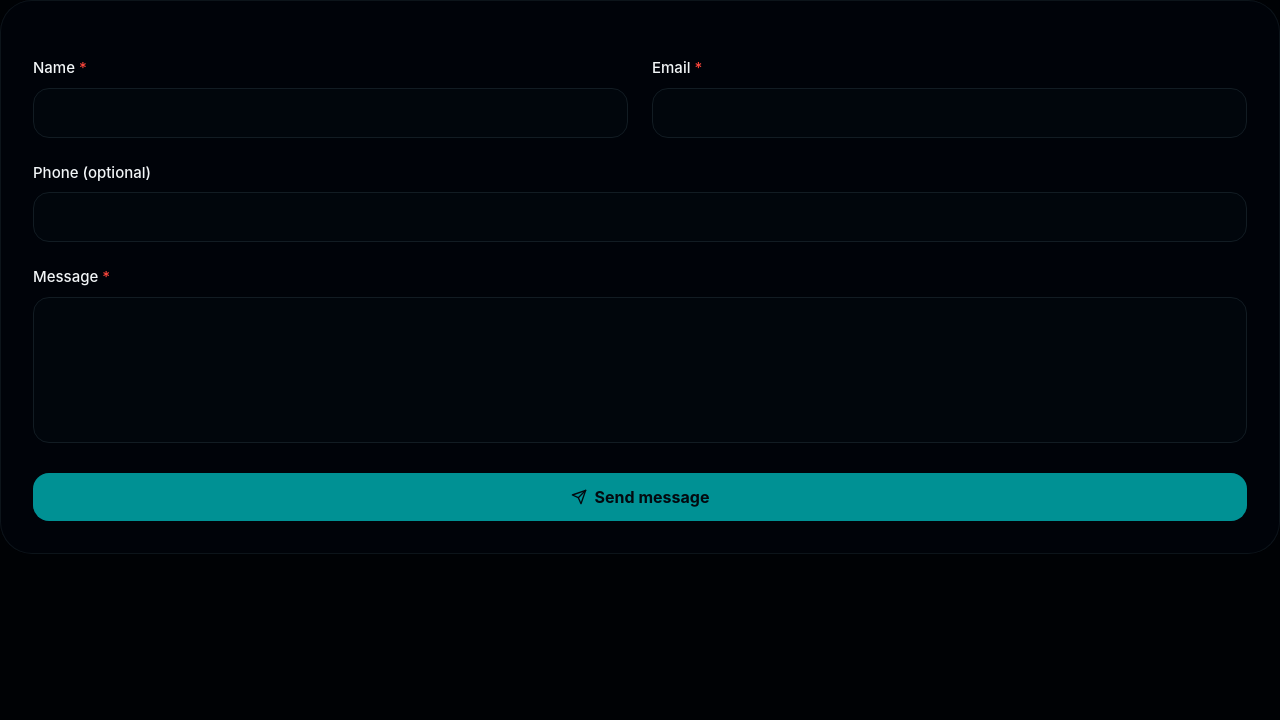
Test case: ContactForm — clears controlled fields on a successful send › fill → submit → success status shown AND every field reset to empty
Step 1. Type "Jane Doe" into the field labelled "Name *" → (330, 112), box [33,88,628,138]
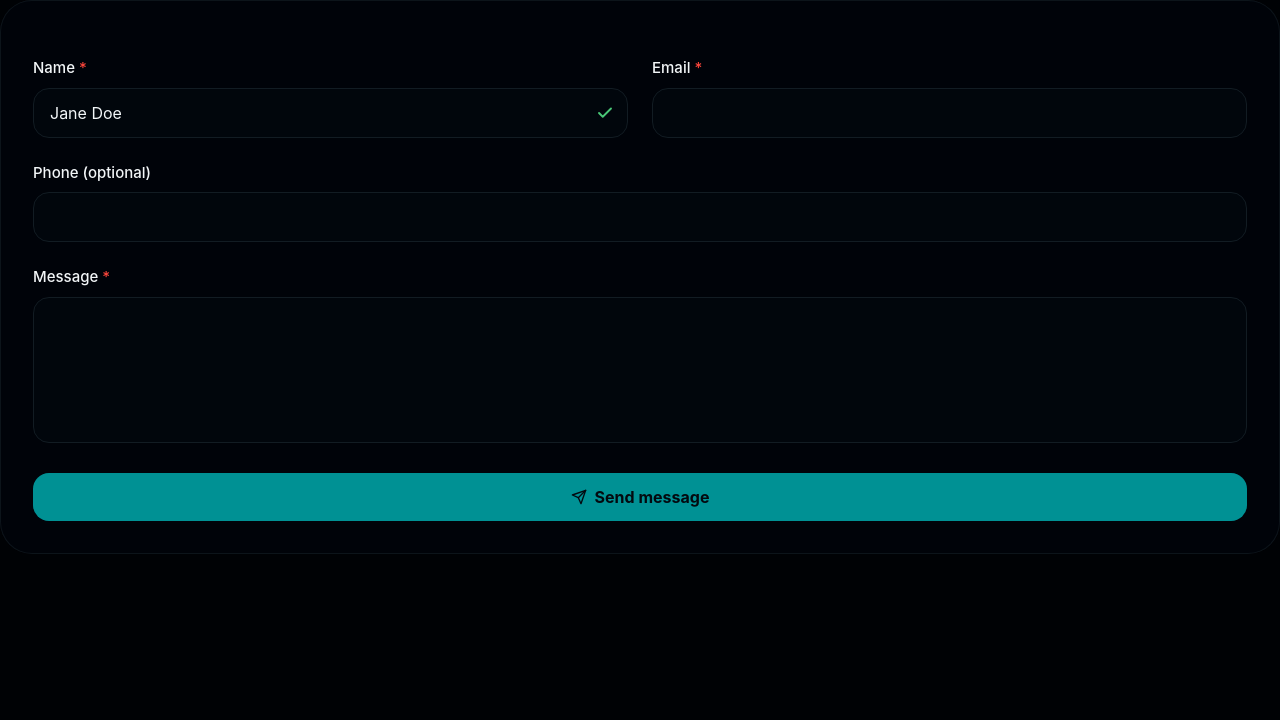
Step 2. Type "jane@example.com" into the field labelled "Email *" → (950, 112), box [652,88,1247,138]
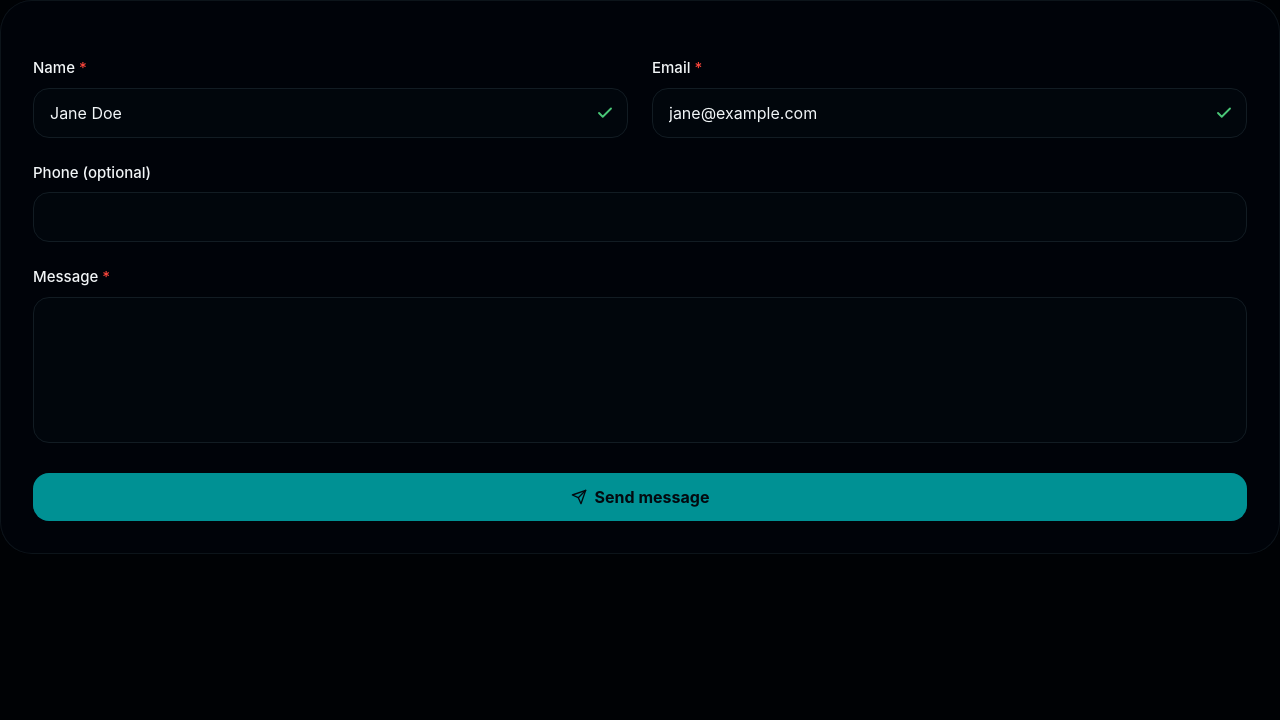
Step 3. Type "Hello — I have a real question about a booking." into the text box labelled "Message *" → (640, 370), box [33,296,1247,442]
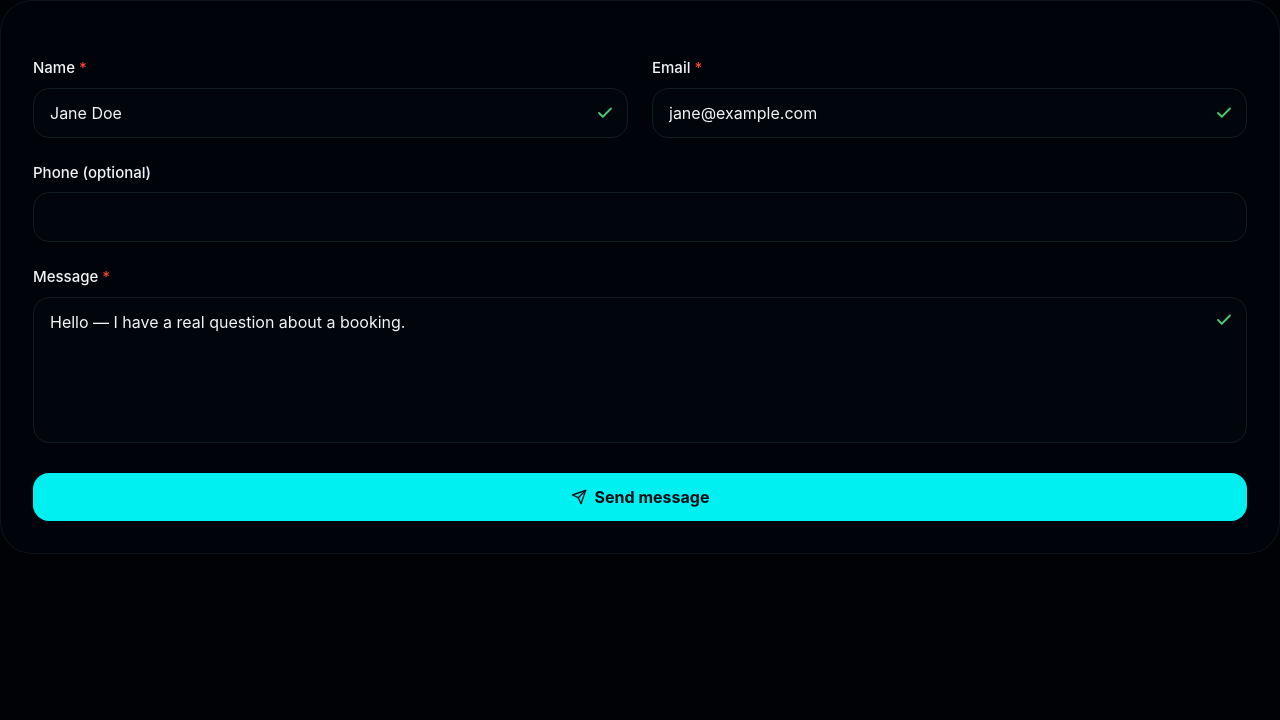
Expected: the button "Send message" is enabled
Step 4. Click the button "Send message" → (640, 496), box [33,472,1247,520]
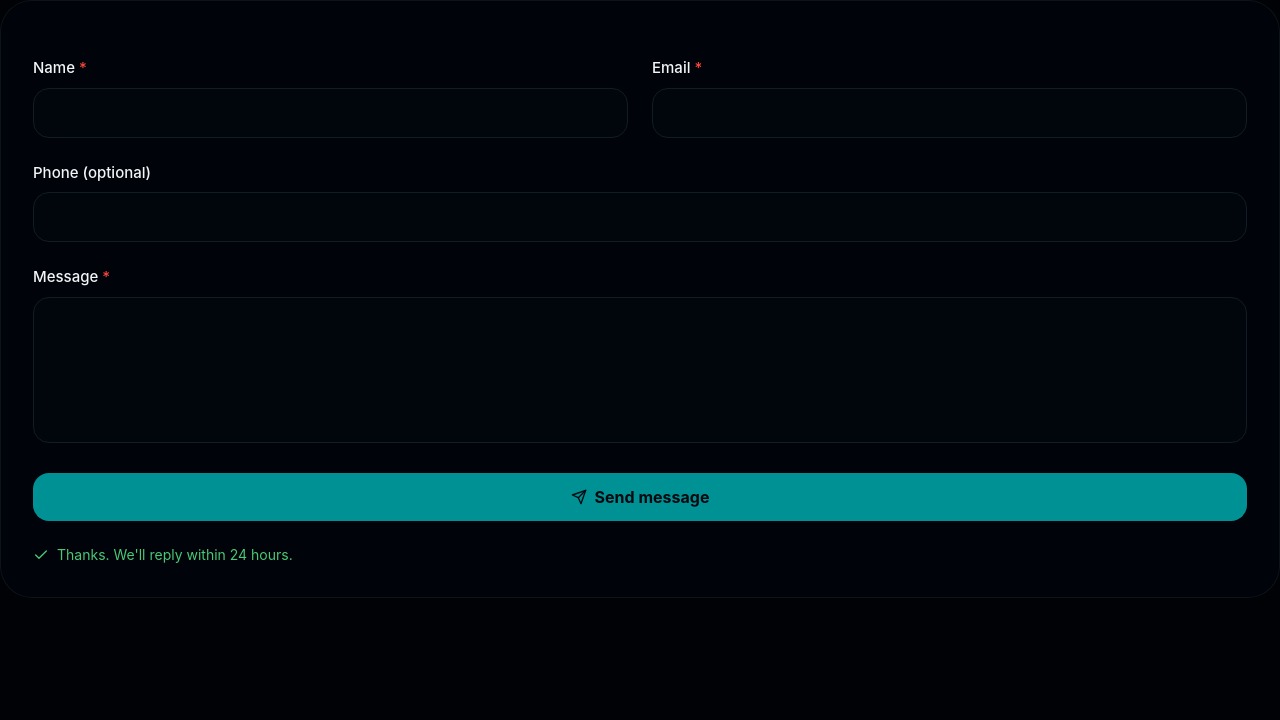
Expected: the message "Thanks. We'll reply within 24 hours." is shown, [33,546,293,562]
Expected: the message shows "Thanks", [57,546,293,562]
Expected: the field labelled "Name *" is empty, [33,88,628,138]
